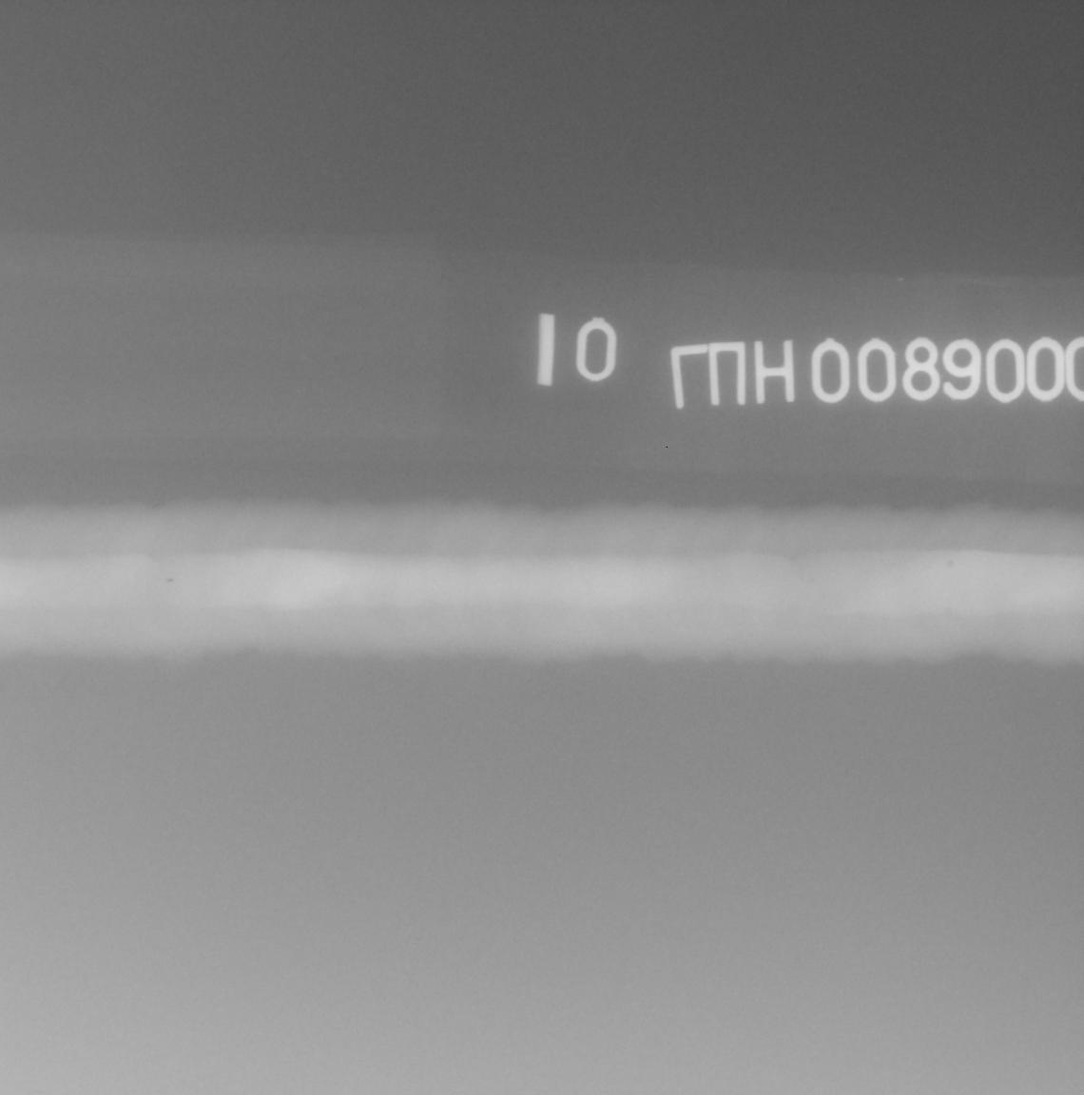Pore/Porosity: (948, 561, 954, 566), (166, 579, 172, 582)
